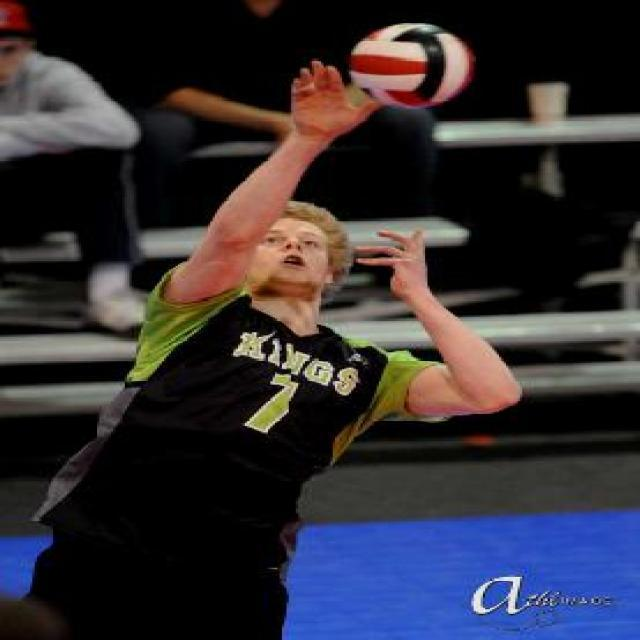volleyball: (351, 21, 476, 110)
